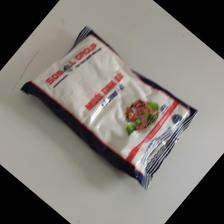Salt: (17, 26, 199, 193)
